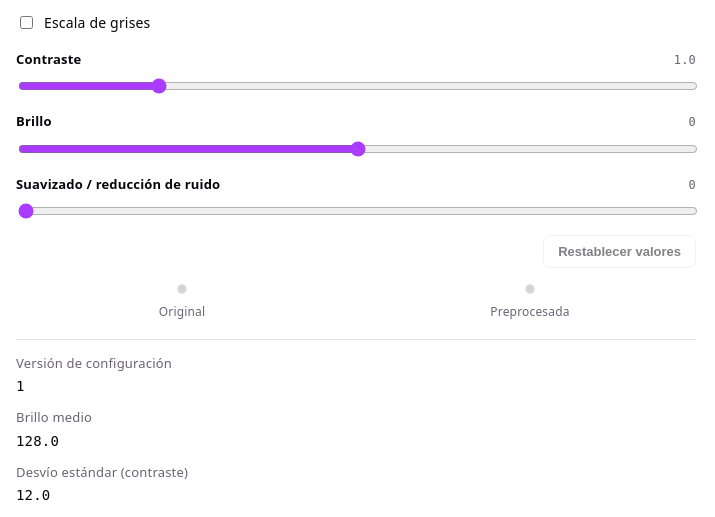
Test case: PreprocessPanel — debounce de sliders › mover el slider de contraste actualiza el valor mostrado de inmediato y, recién tras el debounce, pide un preview nuevo
Set the slider labelled "Contraste" to "1.8": x=371, y=86 [18,78,698,94]
Wait 500 ms
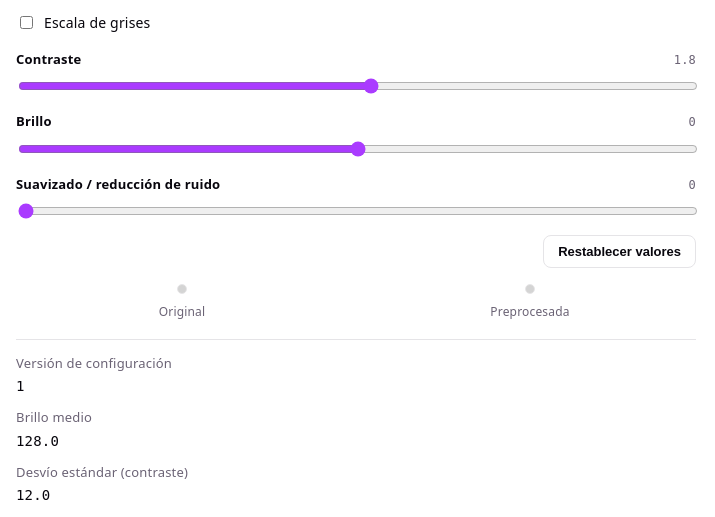
Expected: the text "1.8" is shown, [674,49,696,72]
